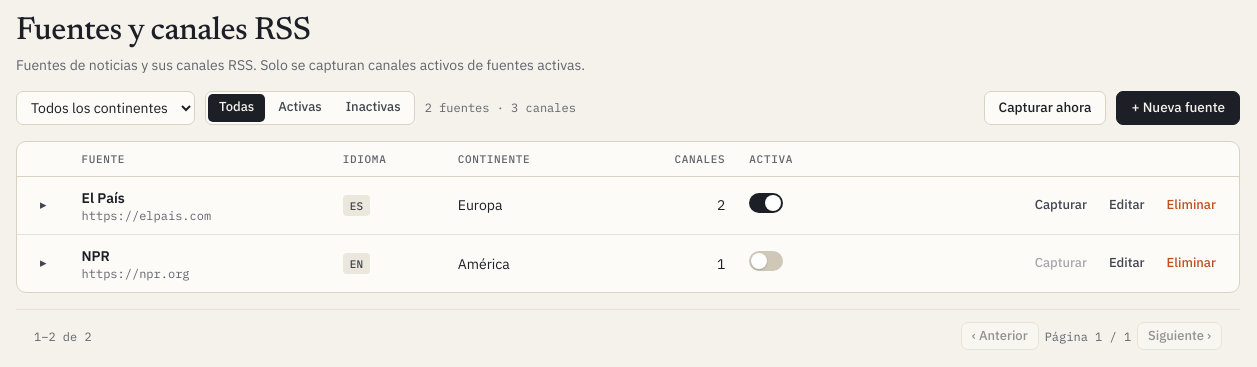
SourcesPage › filters by continent and status locally over all loaded items
Expected: the text "El País" is shown, [82,189,125,207]
# Filter by America
Select "América" in the dropdown named "Continente" at (106, 108), box [16,91,195,125]
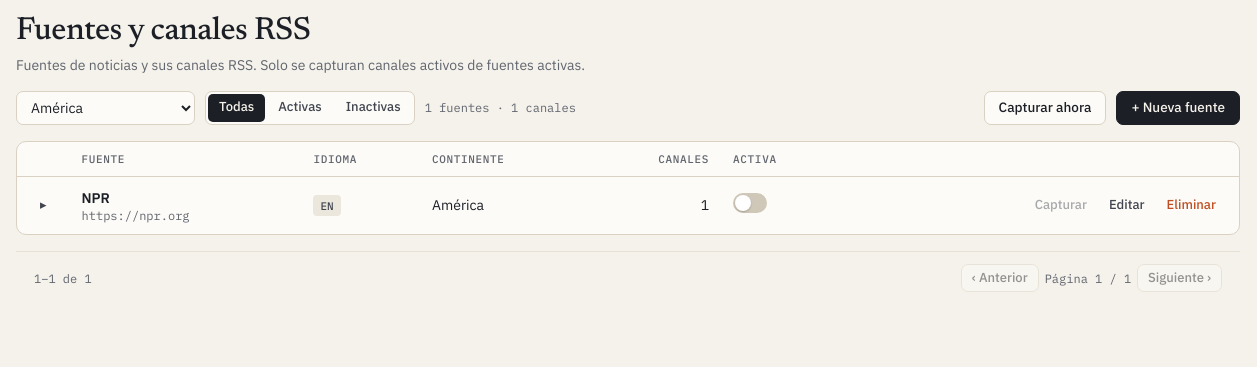
Expected: the text "NPR" is shown, [82,189,110,207]
Expected: the text "El País" is gone
Expected: the text "1 fuentes · 1 canales" is shown, [425,100,576,115]
# Reset continent, filter by Inactivas (NPR is inactive)
Select "Todos los continentes" in the dropdown named "Continente" at (106, 108), box [16,91,195,125]
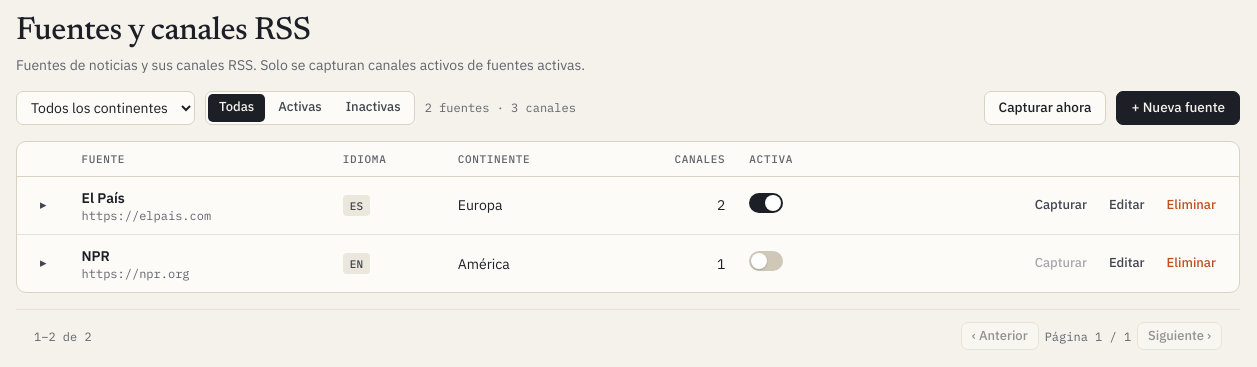
Click the button "Inactivas".
click(373, 108)  # box [335,94,412,122]
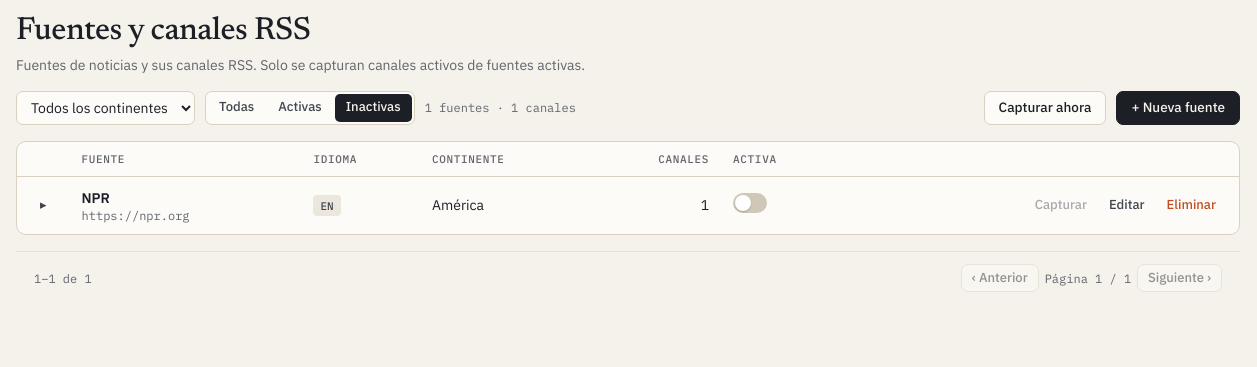
Expected: the text "NPR" is shown, [82,189,110,207]
Expected: the text "El País" is gone
# Filter by Activas (El País is active)
Click the button "Activas".
click(300, 108)  # box [267,94,333,122]
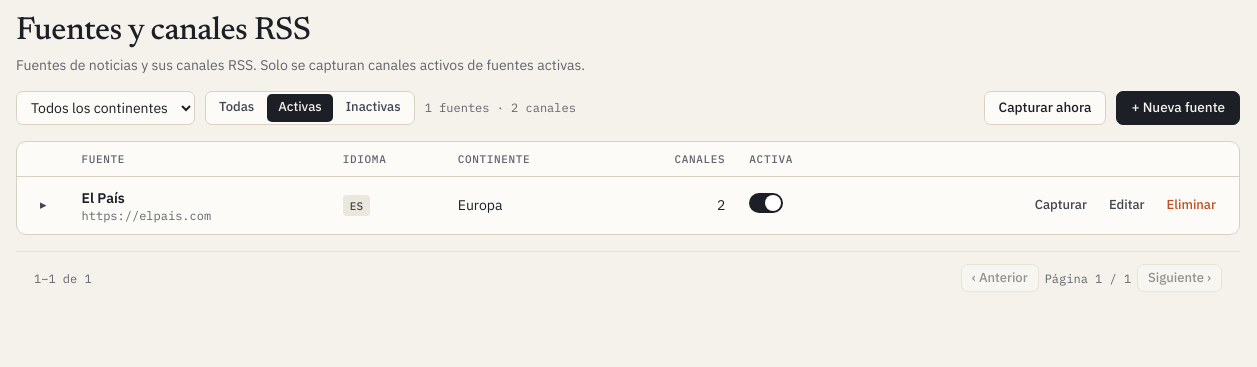
Expected: the text "El País" is shown, [82,189,125,207]
Expected: the text "NPR" is gone
